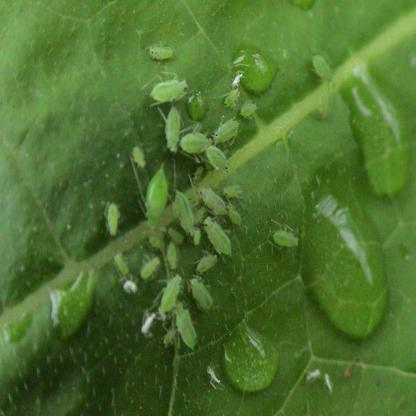aphid: (138, 168, 169, 230), (164, 296, 198, 352), (263, 211, 302, 255), (203, 216, 238, 261), (146, 70, 189, 104), (156, 272, 184, 320), (170, 187, 195, 236), (180, 121, 214, 157), (162, 106, 184, 158), (307, 49, 338, 85), (198, 178, 226, 216), (186, 274, 214, 310), (210, 115, 239, 144), (191, 247, 219, 276), (206, 145, 233, 172), (147, 38, 175, 64), (104, 199, 124, 235), (139, 252, 162, 282), (109, 248, 130, 280), (220, 178, 244, 204), (222, 200, 244, 227), (235, 100, 263, 121), (165, 239, 181, 274), (222, 85, 242, 110), (132, 144, 148, 170)
